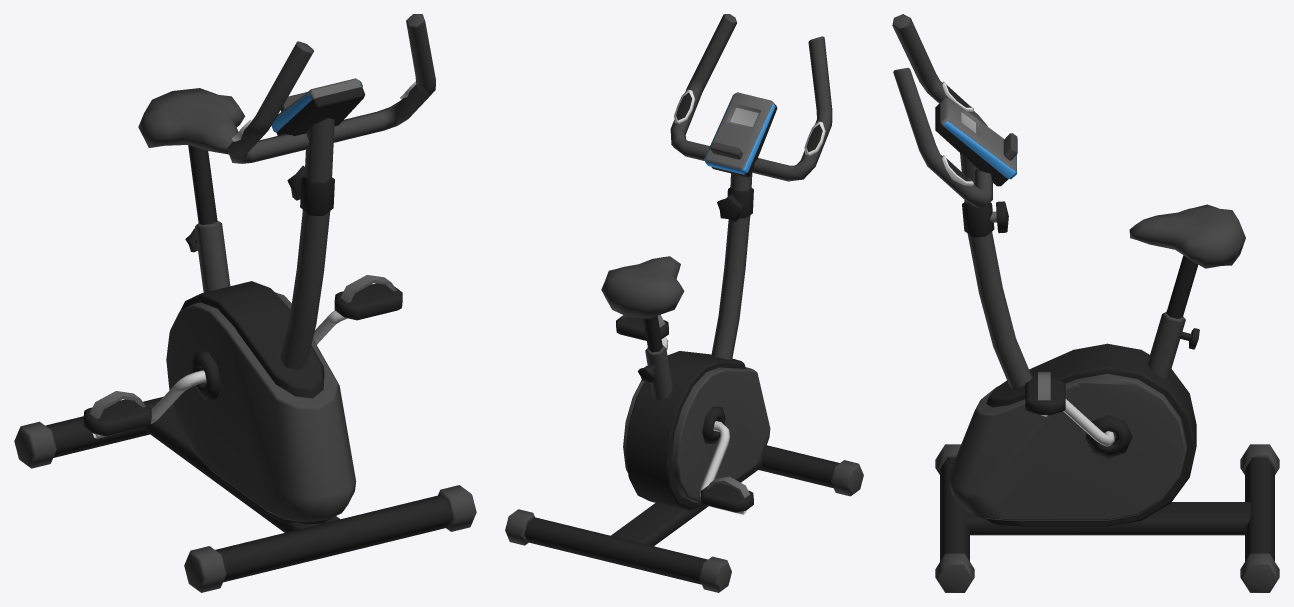
File: training_001.fbx
The picture shows the model from 3 angles, left to right: view 1: azimuth 30°, elevation 25°; view 2: azimuth 150°, elevation 25°; view 3: azimuth 270°, elevation 25°; orthographic projection. The views are drawn at different scales.
Visible parts, largest first — view 1: training_001; view 2: training_001; view 3: training_001.
Part boxes in pixels (x1,y1,x2,y2): training_001: (14,14,476,592); training_001: (505,14,863,592); training_001: (892,14,1279,592).
Bounding box in the file's own units: 93.12 × 127 × 178.
